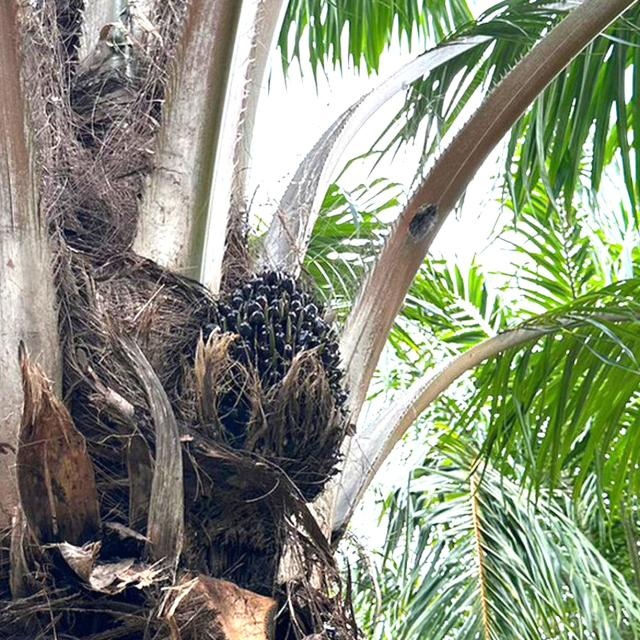unripe: (182, 256, 354, 514)
